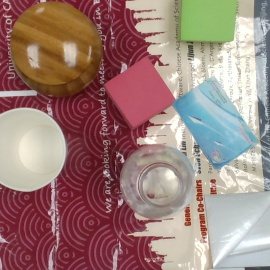bottle: (121, 145, 197, 217)
card: (10, 1, 101, 94), (172, 77, 258, 170)
cup: (1, 107, 66, 194)
